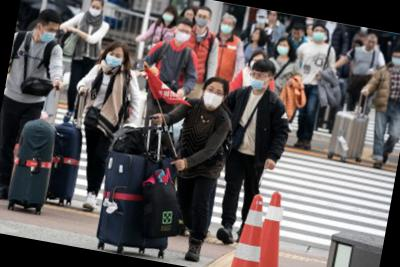mask_weared_incorrect: (292, 30, 304, 43)
with_mask: (202, 84, 226, 111), (248, 70, 269, 92), (39, 24, 59, 45), (104, 50, 124, 69), (174, 25, 192, 45), (194, 12, 211, 30), (219, 20, 235, 36), (248, 57, 264, 73), (88, 4, 103, 19), (161, 10, 176, 24), (312, 27, 326, 42), (275, 43, 290, 56), (255, 15, 267, 26), (391, 54, 400, 68), (323, 32, 330, 42)
without_mask: (364, 39, 378, 51), (250, 30, 261, 42), (268, 12, 279, 24), (184, 12, 195, 22), (306, 27, 315, 37)
